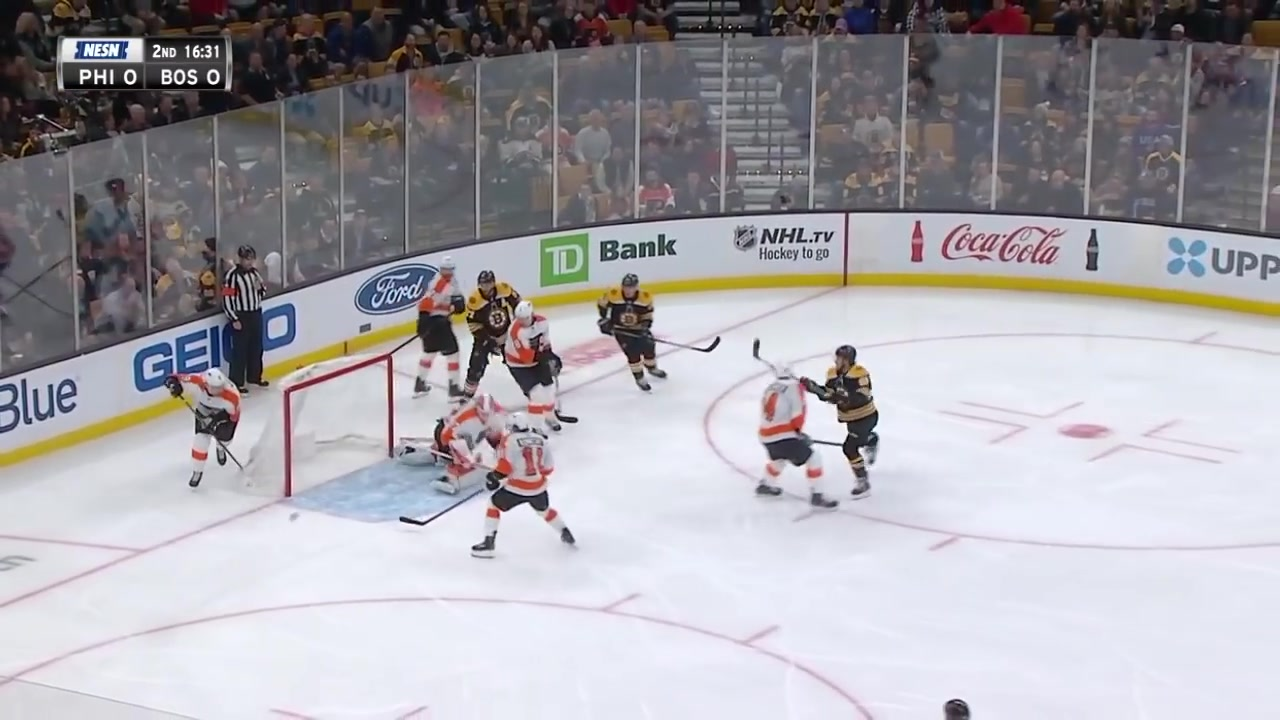Geico: (124, 305, 318, 400)
